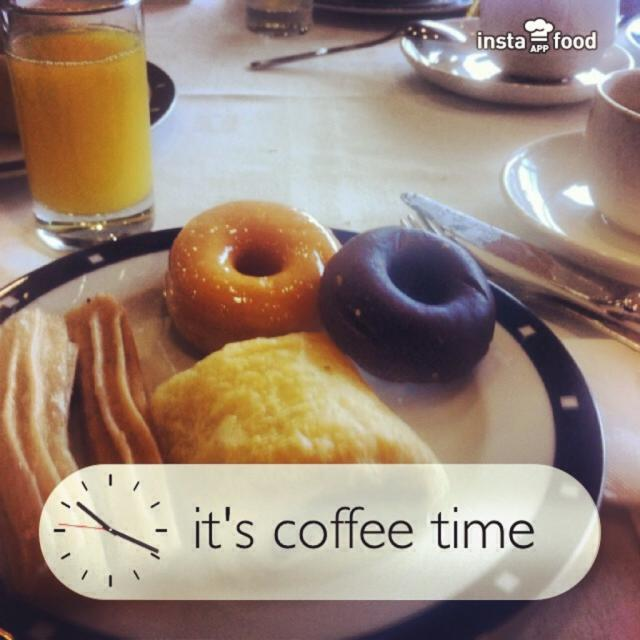Bagel: (163, 196, 340, 355)
